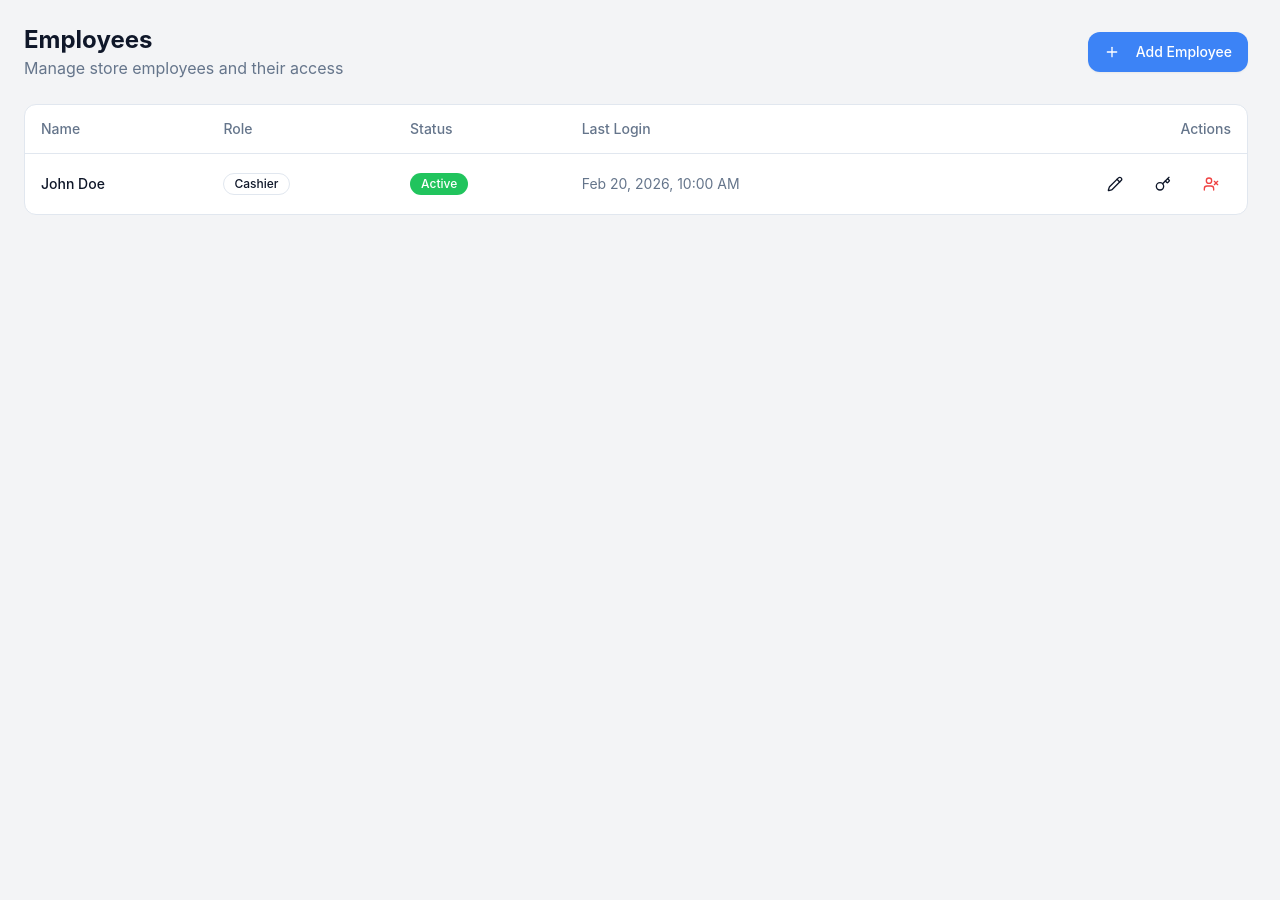
Scenario: EmployeesPage Dialog Error Handling › Edit Employee Dialog Error Handling › DE-013: should display update failure error with actionable message (Business)
Click the button named "edit employee": x=1115, y=184 x1=1095 y1=166 x2=1135 y2=202
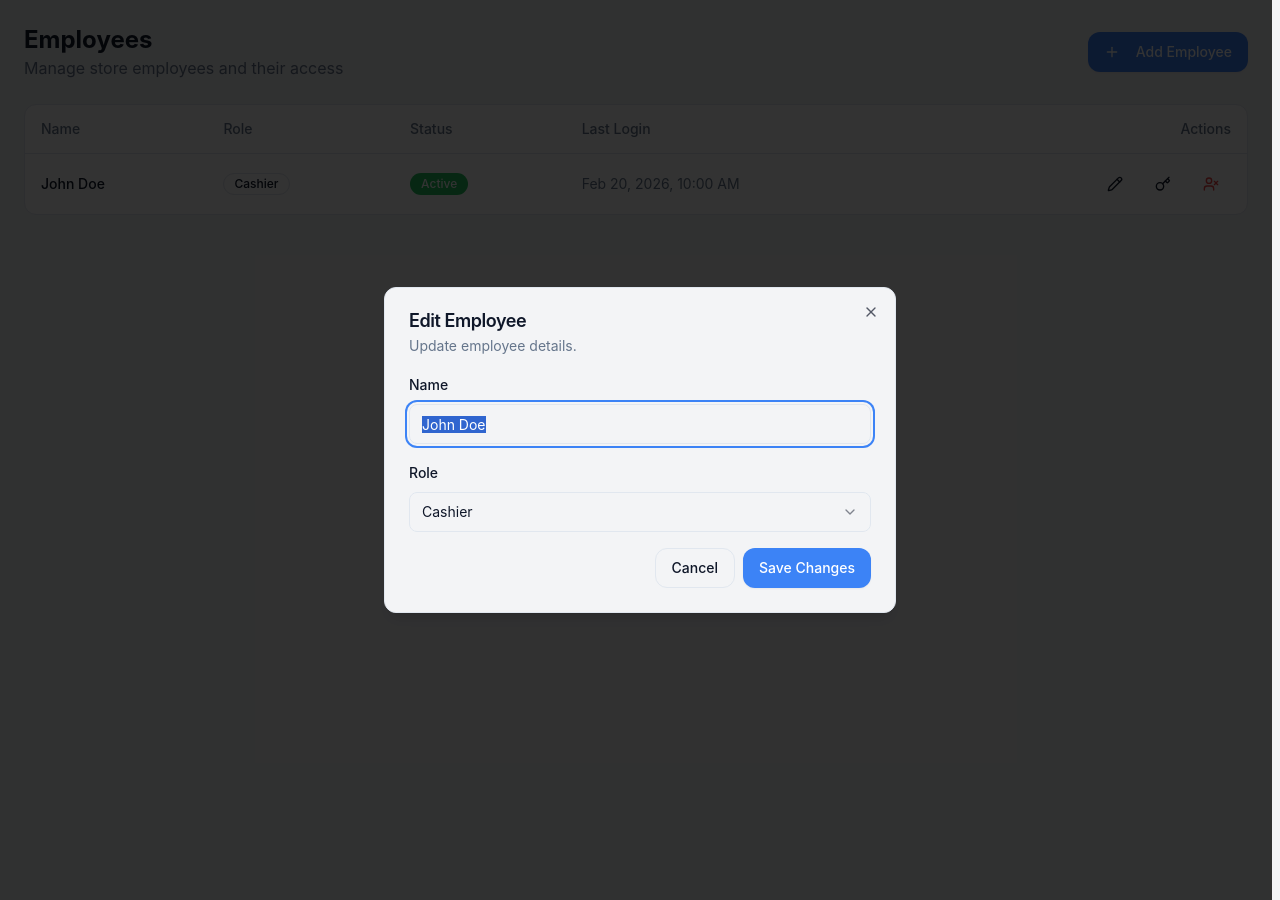
Click the button "Save Changes": x=807, y=568 x1=743 y1=548 x2=871 y2=588
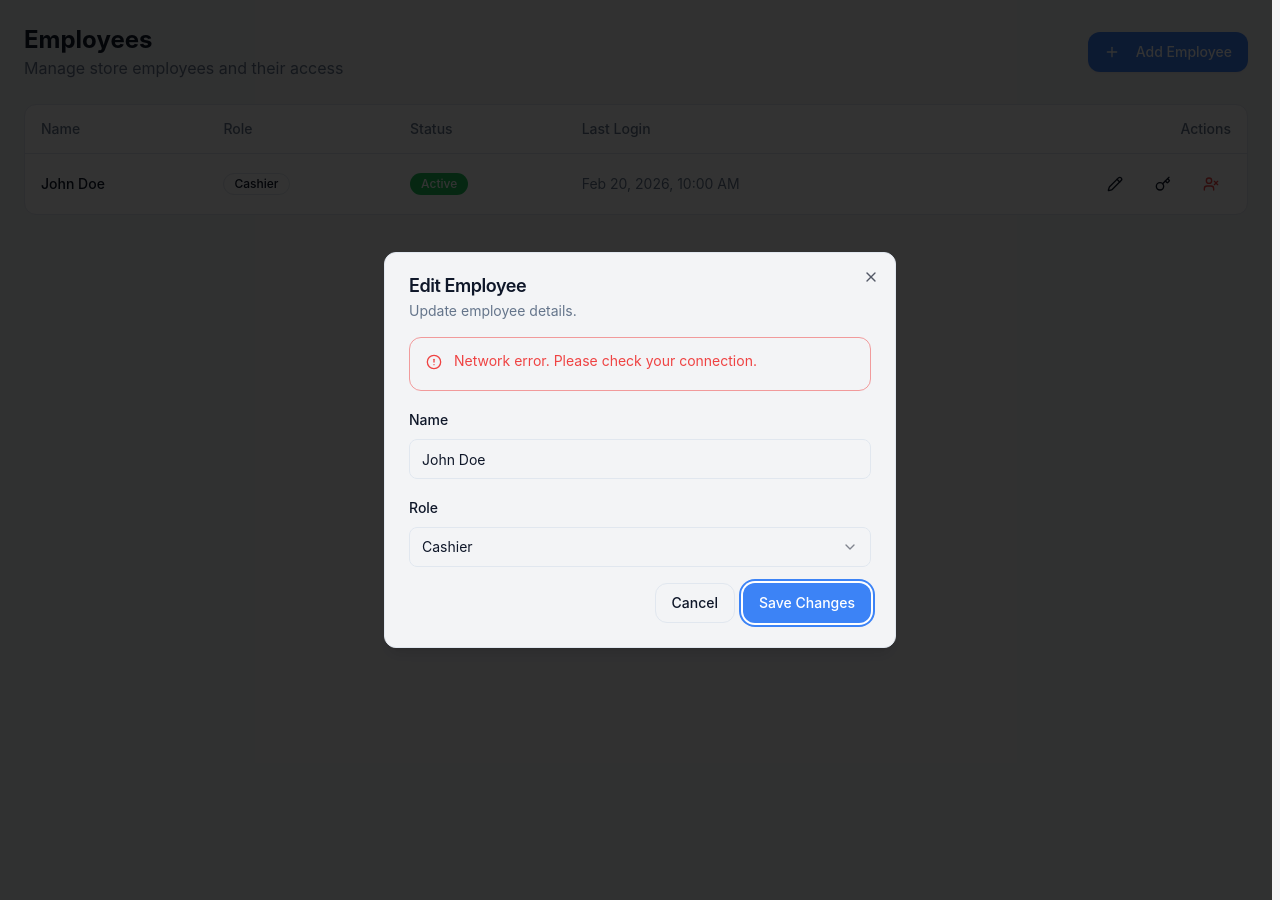
Check: the message shows "Network error", box x1=454 y1=352 x2=757 y2=369
